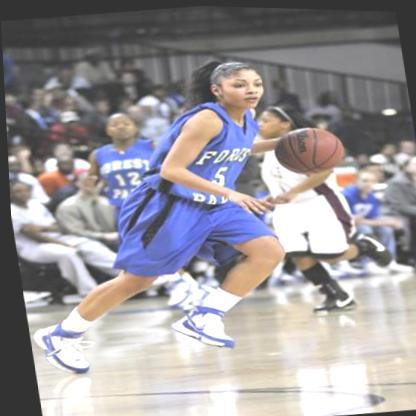basketball: (268, 121, 348, 176)
